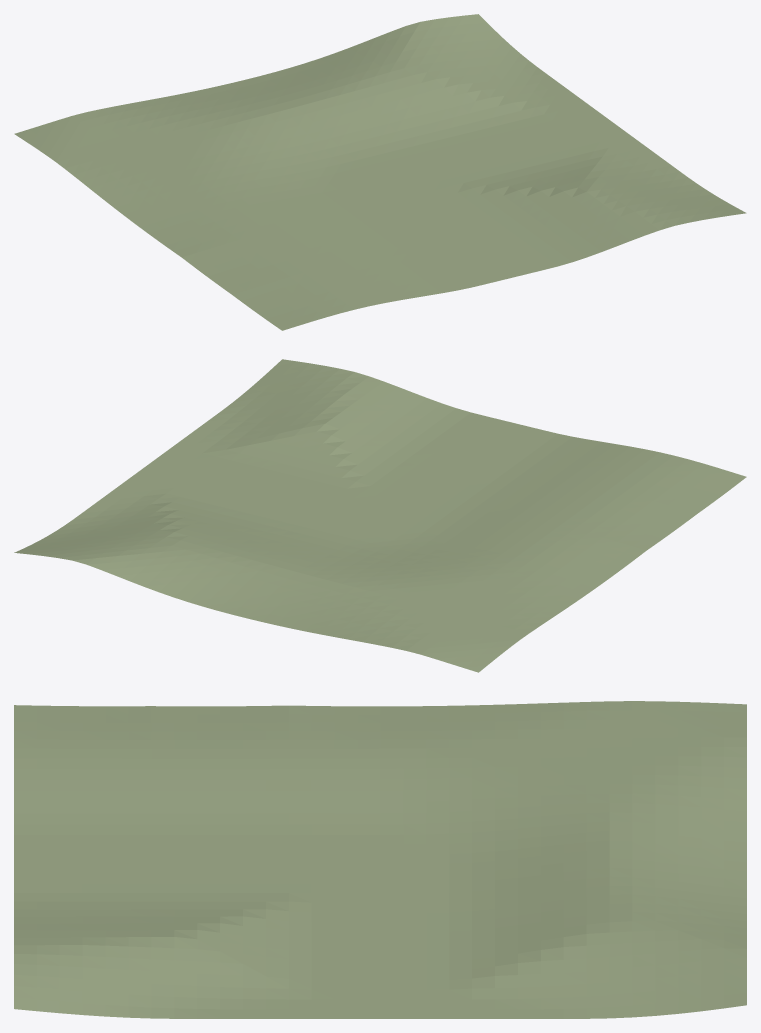
File: gardens-5-2.glb
3 views of the same model, one above another, from view 1: azimuth 30°, elevation 25°; view 2: azimuth 150°, elevation 25°; view 3: azimuth 270°, elevation 25° (orthographic). The views are drawn at different scales.
Visible parts, largest first — view 1: gardens-5-2; view 2: gardens-5-2; view 3: gardens-5-2.
Boxes of the visible parts, x1,y1,x2,y2 form: gardens-5-2: [14, 14, 746, 330]; gardens-5-2: [14, 359, 746, 672]; gardens-5-2: [14, 701, 746, 1018].
Bounding box in the file's own units: 256 × 8.67 × 256.
